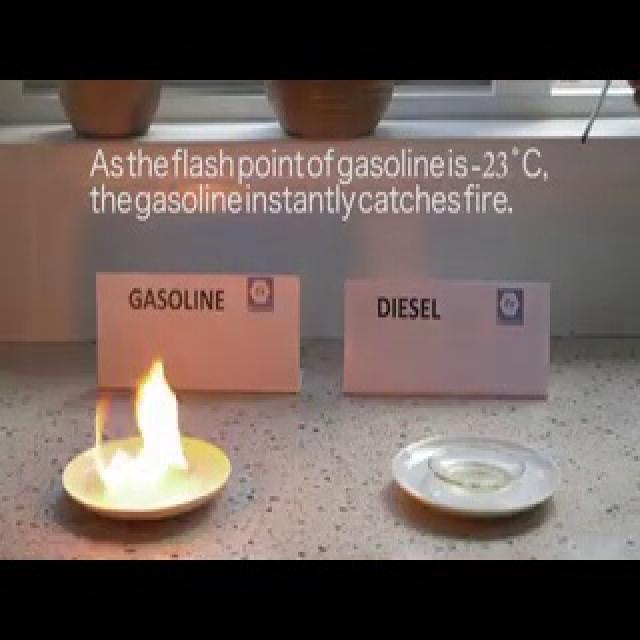fire: (75, 357, 203, 512)
